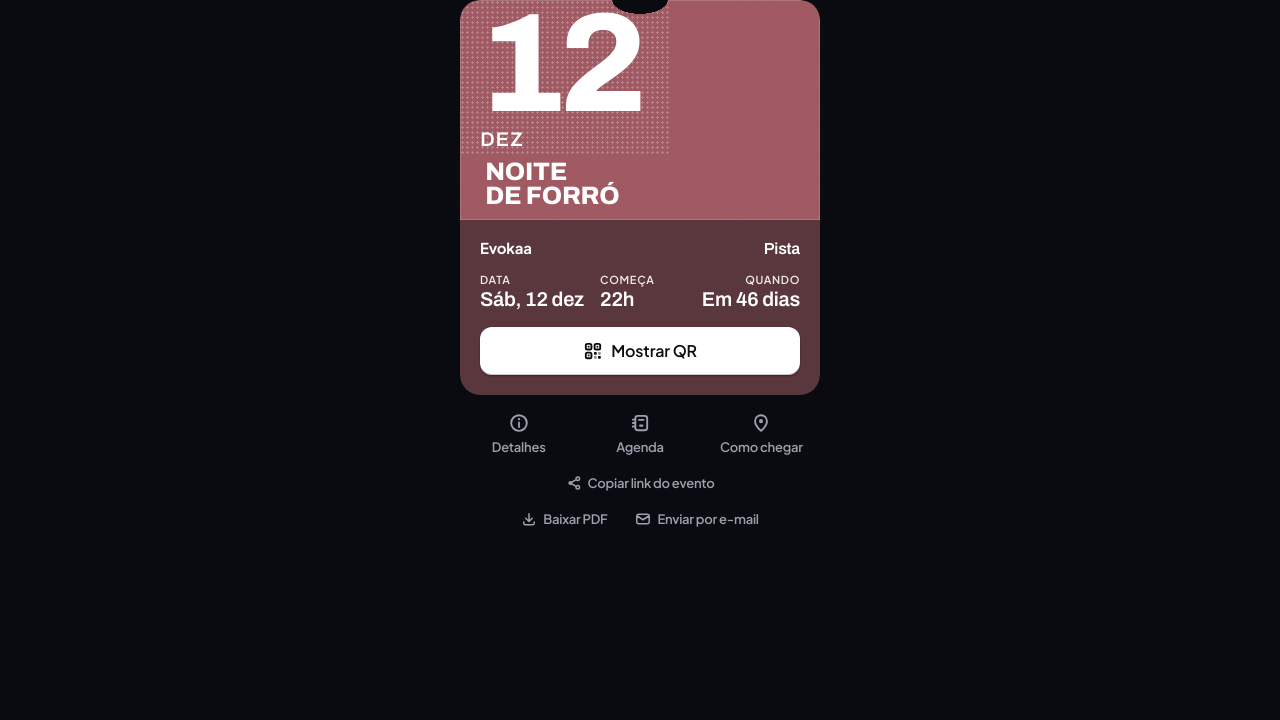
Scenario: IngressosDoEvento › Detalhes abre o titular, o pedido e as regras
The image size is (1280, 720).
Click the button "Detalhes" at (519, 435), box [460, 407, 577, 463]
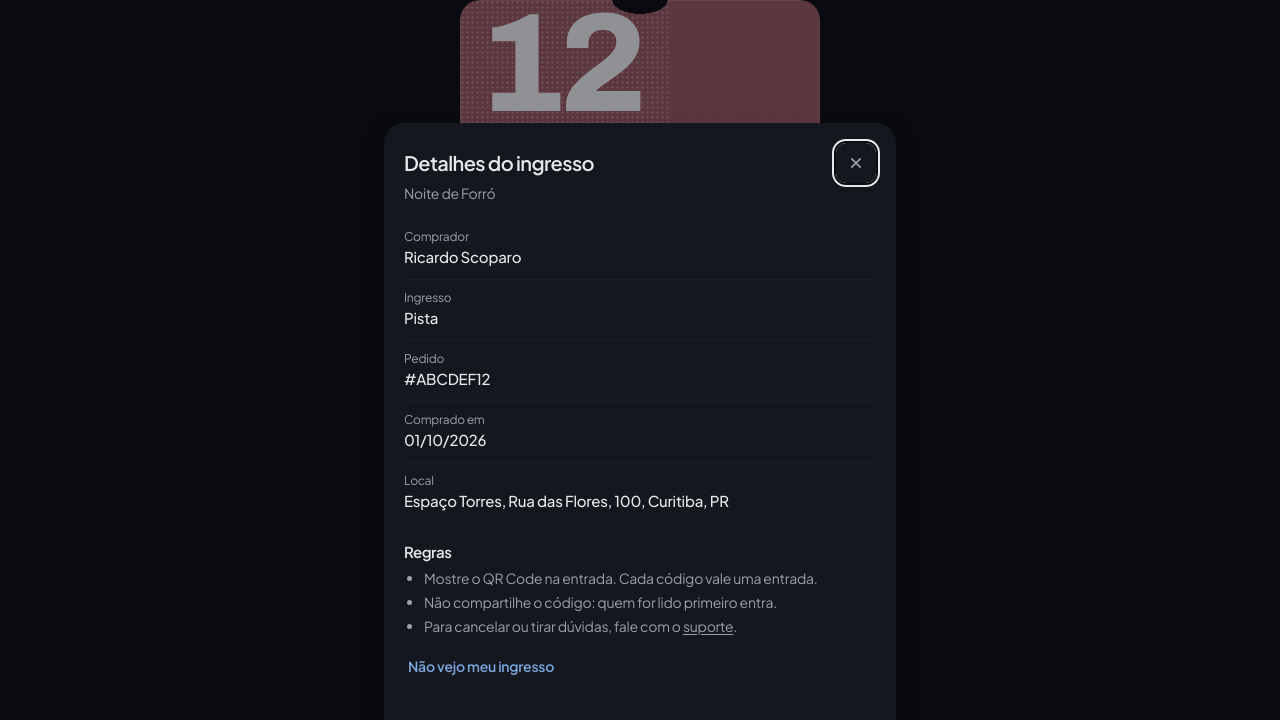
Expected: the dialog shows "Ricardo Scoparo", [404, 247, 521, 266]
Expected: the dialog shows "#ABCDEF12", [404, 369, 490, 388]
Expected: the dialog shows "Regras", [404, 542, 452, 561]
